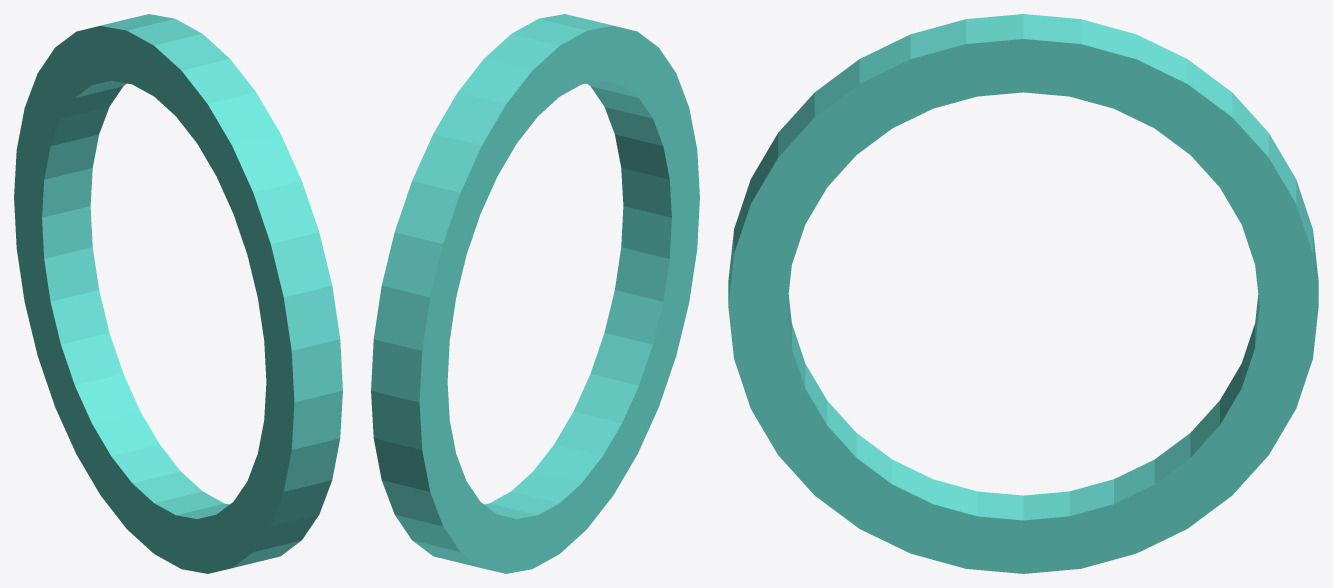
File: リング.glb
The picture shows the model from 3 angles, left to right: view 1: azimuth 30°, elevation 25°; view 2: azimuth 150°, elevation 25°; view 3: azimuth 270°, elevation 25°; orthographic projection. The views are drawn at different scales.
Parts seen in each view (by area): view 1: 円柱.002; view 2: 円柱.002; view 3: 円柱.002.
Part boxes in pixels (box(x1,y1,x2,y2)): 円柱.002: box(14, 14, 342, 573); 円柱.002: box(371, 14, 699, 573); 円柱.002: box(728, 14, 1318, 573).
Size of the model in its own units: 0.1 by 1 by 1.
